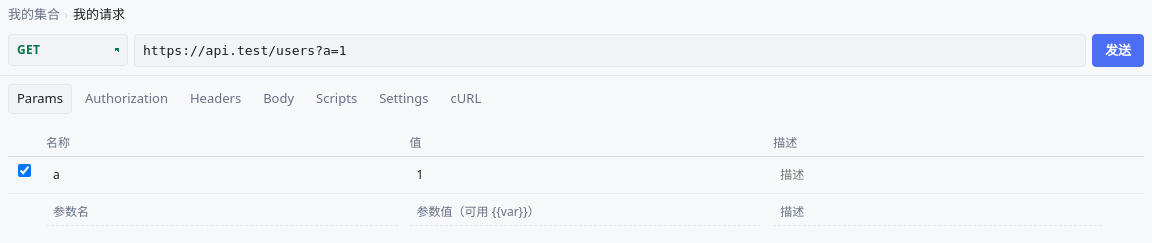
Test: URL 与参数表同步（spec: URL 与参数表保持同步） › 改参数行的值：地址栏的查询串同步更新
The image size is (1152, 243).
Replace the text in the field named "参数值（可用 {{var}}） 0" with "2" at (585, 174), box [410,160,761,188]
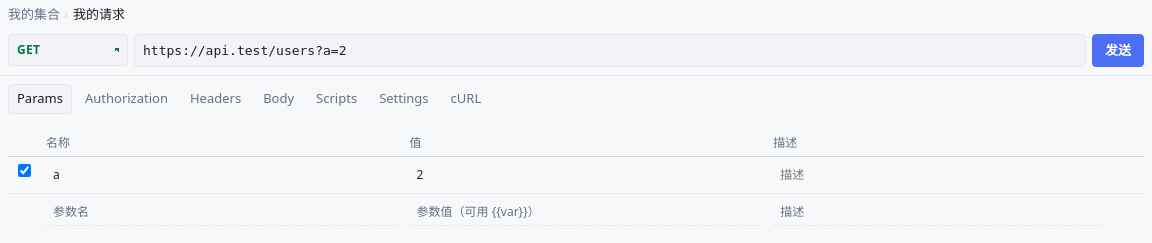
Check: the text "https://api.test/users?a=2" is shown, box [143,42,346,58]
